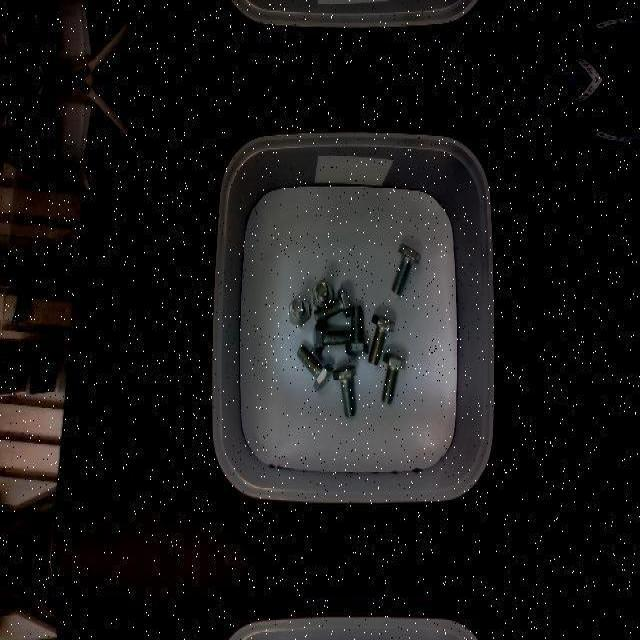screw: (296, 343, 332, 389), (391, 242, 421, 294), (314, 286, 353, 322), (368, 315, 394, 365), (381, 352, 406, 402), (333, 364, 357, 416), (314, 323, 351, 355), (345, 305, 368, 355), (289, 295, 310, 327)
